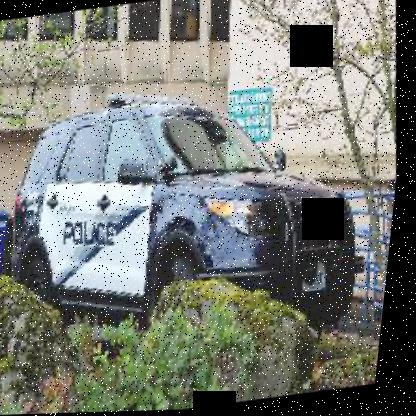emergency: (0, 63, 386, 384)
